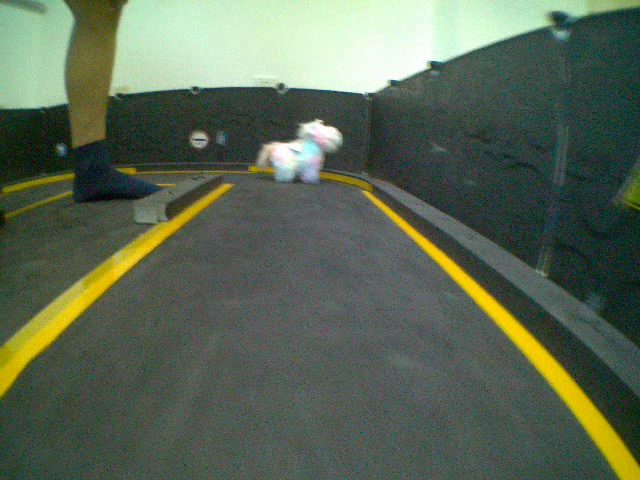unicorn: (256, 123, 349, 189)
